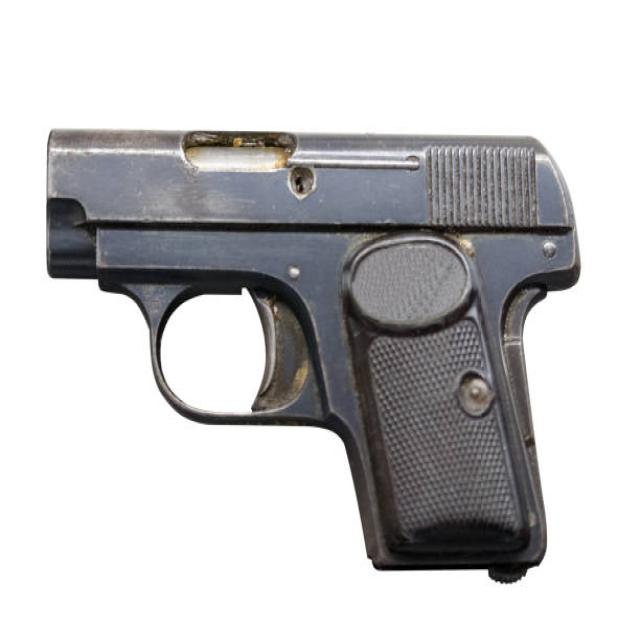pistol: (39, 119, 582, 591)
